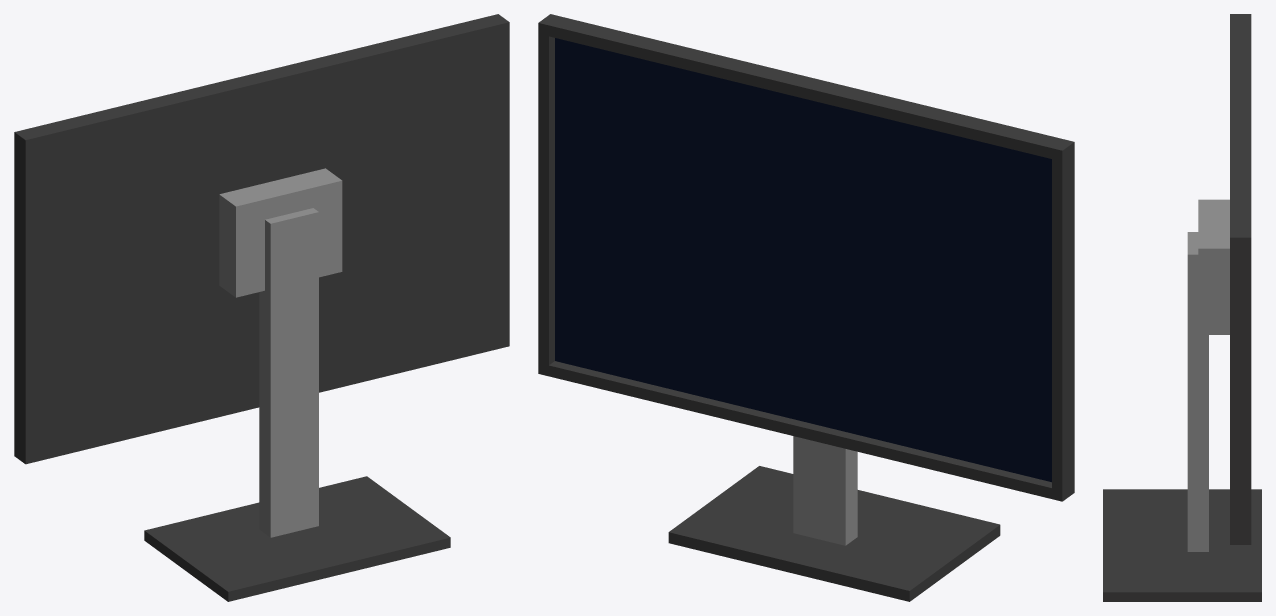
The model's file is Monitor_01_snaps001.fbx.
3 views of the same model, side by side, from view 1: azimuth 30°, elevation 25°; view 2: azimuth 150°, elevation 25°; view 3: azimuth 270°, elevation 25° (orthographic). The views are drawn at different scales.
Visible parts, largest first — view 1: Monitor_01_snaps001; view 2: Monitor_01_snaps001; view 3: Monitor_01_snaps001.
Part boxes in pixels (bbox=[...]): Monitor_01_snaps001: bbox=[14, 14, 509, 601]; Monitor_01_snaps001: bbox=[538, 14, 1074, 601]; Monitor_01_snaps001: bbox=[1103, 14, 1261, 601].
Bounding box in the file's own units: 78.12 × 68.75 × 23.44.
